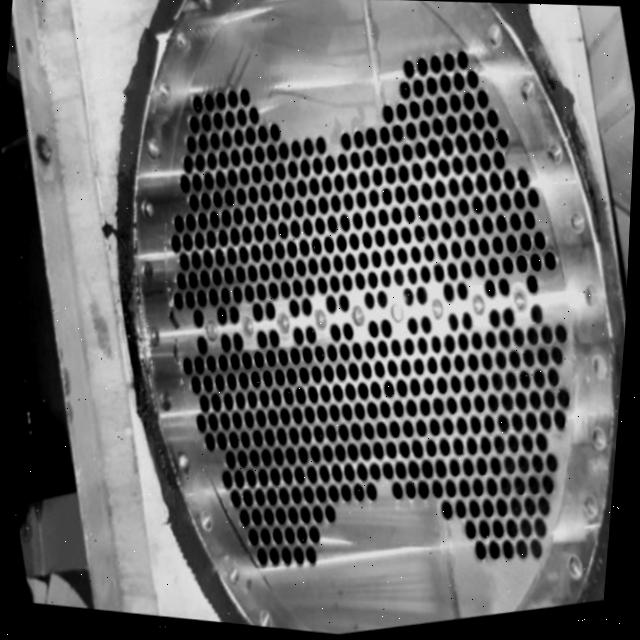Hole: (557, 388, 575, 414), (532, 368, 550, 394), (543, 387, 561, 413), (546, 366, 564, 392), (540, 411, 558, 436), (554, 409, 572, 434), (535, 346, 553, 371), (540, 326, 559, 349), (528, 305, 547, 328), (514, 168, 533, 191), (288, 142, 304, 169), (312, 137, 329, 162), (508, 433, 525, 458), (518, 454, 535, 479), (528, 475, 545, 500), (484, 330, 501, 355), (494, 351, 511, 376), (508, 349, 525, 374), (529, 389, 546, 414), (526, 411, 543, 436), (521, 433, 538, 458), (532, 453, 549, 478), (542, 473, 559, 498), (536, 432, 553, 457), (497, 497, 514, 522), (455, 417, 472, 442), (418, 480, 435, 505), (295, 468, 312, 493), (526, 327, 544, 350), (504, 235, 522, 258), (498, 192, 515, 216), (242, 130, 259, 154), (539, 495, 556, 519), (511, 497, 528, 521), (323, 366, 340, 390), (325, 506, 342, 530), (325, 426, 342, 450), (322, 447, 339, 471), (313, 507, 330, 531), (310, 528, 327, 552), (304, 328, 320, 353), (519, 369, 535, 394), (442, 502, 458, 527), (406, 482, 422, 507), (473, 175, 490, 198), (445, 263, 462, 286), (543, 251, 560, 274), (550, 346, 567, 369), (512, 191, 529, 214), (525, 189, 542, 212), (523, 211, 540, 234), (518, 234, 535, 257), (532, 231, 549, 254), (529, 253, 546, 276), (525, 276, 542, 299), (554, 323, 571, 346), (512, 329, 529, 352), (502, 308, 519, 331), (484, 195, 501, 218), (433, 97, 450, 120), (436, 77, 453, 100), (448, 96, 465, 119), (443, 117, 460, 140), (453, 136, 470, 159), (457, 115, 474, 138), (450, 74, 467, 97), (454, 52, 471, 75), (460, 93, 477, 116), (459, 178, 476, 201), (463, 155, 480, 178), (466, 134, 483, 157), (471, 113, 488, 136), (474, 91, 491, 114), (282, 550, 299, 573), (294, 549, 311, 572), (257, 550, 274, 573), (239, 512, 256, 535), (225, 454, 242, 477), (232, 337, 249, 360), (183, 218, 200, 241), (177, 180, 194, 203), (189, 100, 206, 123), (191, 313, 208, 336), (206, 292, 223, 315), (227, 311, 244, 334), (251, 307, 268, 330), (310, 241, 327, 264), (301, 141, 318, 164), (276, 145, 293, 168), (264, 147, 281, 170), (267, 206, 284, 229), (281, 264, 298, 287), (546, 454, 563, 477), (500, 393, 517, 416), (491, 373, 508, 396), (515, 476, 532, 499), (525, 497, 542, 520), (500, 478, 517, 501), (493, 436, 510, 459), (484, 416, 501, 439), (470, 332, 487, 355), (467, 354, 484, 377), (457, 334, 474, 357), (473, 395, 490, 418), (531, 539, 548, 562), (521, 518, 538, 541), (517, 540, 534, 563), (507, 518, 524, 541), (503, 540, 520, 563), (466, 437, 483, 460), (442, 418, 459, 441), (433, 398, 450, 421), (449, 460, 466, 483), (446, 480, 463, 503), (432, 481, 449, 504), (452, 439, 469, 462), (428, 418, 445, 441), (409, 379, 426, 402), (396, 380, 413, 403), (406, 401, 423, 424), (409, 462, 426, 485), (412, 441, 429, 464), (402, 421, 419, 444), (396, 463, 413, 486), (392, 484, 409, 507), (376, 422, 393, 445), (379, 402, 396, 425), (367, 322, 384, 345), (342, 325, 359, 348), (329, 326, 346, 349), (357, 464, 374, 487), (343, 466, 360, 489), (335, 366, 352, 389), (313, 348, 330, 371), (329, 406, 346, 429), (332, 466, 349, 489), (304, 409, 321, 432), (319, 466, 336, 489), (301, 428, 318, 451), (304, 489, 321, 512), (298, 529, 315, 552), (283, 469, 300, 492), (307, 469, 324, 492), (298, 449, 315, 472), (279, 410, 296, 433), (283, 390, 300, 413), (273, 371, 290, 394), (270, 392, 287, 415), (267, 411, 284, 434), (259, 393, 276, 416), (495, 214, 511, 238), (234, 473, 250, 497), (498, 414, 514, 438), (326, 346, 342, 370), (316, 487, 332, 511), (515, 255, 531, 278), (502, 171, 518, 194), (441, 55, 457, 78), (427, 57, 443, 80), (464, 71, 480, 94), (427, 141, 443, 164), (238, 375, 254, 398), (246, 110, 262, 133), (255, 129, 271, 152), (243, 210, 259, 233), (512, 413, 528, 436), (504, 457, 520, 480), (478, 374, 494, 397), (454, 355, 470, 378), (476, 542, 492, 565), (456, 501, 472, 524), (436, 461, 452, 484), (420, 399, 436, 422), (367, 485, 383, 508), (335, 446, 351, 469), (329, 487, 345, 510), (280, 490, 296, 513), (480, 217, 497, 238), (273, 452, 289, 474), (291, 489, 307, 511), (222, 396, 238, 418), (226, 377, 242, 399), (172, 296, 188, 318), (211, 398, 227, 420), (226, 377, 242, 399), (252, 433, 268, 455), (273, 531, 289, 553), (253, 511, 269, 533), (286, 371, 302, 393), (238, 454, 254, 476), (246, 473, 262, 495), (250, 454, 266, 476), (273, 451, 289, 473), (262, 452, 278, 474), (258, 473, 274, 495), (197, 341, 213, 363), (243, 493, 259, 515), (248, 532, 264, 554), (237, 93, 253, 115), (256, 334, 272, 356), (217, 156, 233, 178), (270, 187, 286, 209), (276, 226, 292, 248), (264, 227, 280, 249), (516, 392, 532, 414), (460, 396, 476, 418), (440, 357, 456, 379), (446, 397, 462, 419), (490, 542, 506, 564), (470, 501, 486, 523), (466, 522, 482, 544), (460, 481, 476, 503), (439, 439, 455, 461), (380, 321, 396, 343), (416, 420, 432, 442), (426, 440, 442, 462), (393, 403, 409, 425), (386, 443, 402, 465), (374, 362, 390, 384), (364, 343, 380, 365), (367, 404, 383, 426), (370, 466, 386, 488), (358, 384, 374, 406), (301, 509, 317, 531), (276, 511, 292, 533), (400, 442, 415, 465), (509, 214, 525, 235), (413, 143, 429, 164), (423, 164, 439, 185), (416, 123, 432, 144), (292, 203, 306, 227), (488, 395, 504, 416), (314, 428, 330, 449), (182, 362, 197, 384), (196, 419, 211, 441), (208, 417, 223, 439), (268, 491, 283, 513), (191, 381, 206, 403), (255, 491, 270, 513), (229, 154, 244, 176), (273, 165, 288, 187), (259, 189, 274, 211), (261, 247, 276, 269), (423, 462, 438, 484), (374, 444, 389, 466), (339, 347, 354, 369), (348, 445, 363, 467), (342, 485, 357, 507), (310, 449, 325, 471), (289, 509, 304, 531), (286, 529, 301, 551), (289, 431, 304, 453), (265, 432, 280, 454), (250, 170, 264, 193), (489, 311, 505, 331), (481, 354, 497, 374), (523, 350, 539, 370), (461, 314, 477, 334), (491, 238, 507, 258), (498, 280, 514, 300), (501, 258, 517, 278), (483, 282, 499, 302), (492, 154, 508, 174), (496, 131, 512, 151), (485, 111, 501, 131), (481, 134, 497, 154), (478, 156, 494, 176), (467, 220, 483, 240), (463, 242, 479, 262), (432, 267, 448, 287), (399, 147, 415, 167), (409, 166, 425, 186), (446, 181, 462, 201), (407, 104, 423, 124), (440, 140, 456, 160), (430, 120, 446, 140), (397, 85, 413, 105), (410, 83, 426, 103), (423, 81, 439, 101), (435, 245, 451, 265), (429, 205, 445, 225), (439, 224, 455, 244), (443, 202, 459, 222), (449, 244, 465, 264), (453, 221, 469, 241), (457, 201, 473, 221), (404, 126, 420, 146), (335, 238, 351, 258), (323, 240, 339, 260), (322, 160, 338, 180), (232, 494, 248, 514), (199, 400, 215, 420), (205, 361, 221, 381), (219, 418, 235, 438), (240, 435, 256, 455), (243, 415, 259, 435), (220, 339, 236, 359), (184, 142, 200, 162), (178, 259, 194, 279), (175, 278, 191, 298), (184, 297, 200, 317), (181, 239, 197, 259), (193, 238, 209, 258), (199, 276, 215, 296), (216, 313, 232, 333), (219, 292, 235, 312), (213, 97, 229, 117), (228, 234, 244, 254), (255, 289, 271, 309), (251, 229, 267, 249), (249, 249, 265, 269), (267, 287, 283, 307), (292, 283, 308, 303), (286, 165, 302, 185), (295, 185, 311, 205), (270, 267, 286, 287), (443, 337, 459, 357), (464, 378, 480, 398), (426, 359, 442, 379), (437, 379, 453, 399), (423, 380, 439, 400), (536, 518, 552, 538), (479, 522, 495, 542), (487, 480, 503, 500), (383, 465, 399, 485), (332, 387, 348, 407), (311, 369, 327, 389), (301, 351, 317, 371), (308, 391, 324, 411), (276, 352, 292, 372), (253, 355, 269, 375), (247, 395, 263, 415), (500, 331, 515, 352), (420, 102, 435, 123), (416, 207, 431, 228), (229, 435, 244, 456), (235, 396, 250, 417), (247, 270, 262, 291), (407, 319, 422, 340), (494, 521, 509, 542), (484, 500, 499, 521), (317, 408, 332, 429), (215, 176, 229, 198), (338, 299, 354, 318), (298, 164, 314, 183), (288, 305, 304, 324), (473, 261, 488, 281), (506, 373, 521, 393), (488, 260, 503, 280), (488, 175, 503, 195), (471, 198, 486, 218), (477, 239, 492, 259), (443, 286, 458, 306), (420, 186, 435, 206), (450, 159, 465, 179), (401, 63, 416, 83), (414, 61, 429, 81), (434, 184, 449, 204), (437, 161, 452, 181), (394, 106, 409, 126), (377, 212, 392, 232), (370, 172, 385, 192), (374, 151, 389, 171), (396, 249, 411, 269), (406, 270, 421, 290), (386, 231, 401, 251), (380, 191, 395, 211), (390, 210, 405, 230), (384, 169, 399, 189), (387, 148, 402, 168), (396, 168, 411, 188), (403, 209, 418, 229), (419, 269, 434, 289), (426, 226, 441, 246), (381, 108, 396, 128), (361, 153, 376, 173), (376, 293, 391, 313), (370, 254, 385, 274), (380, 273, 395, 293), (348, 156, 363, 176), (354, 194, 369, 214), (364, 213, 379, 233), (382, 252, 397, 272), (367, 193, 382, 213), (339, 137, 354, 157), (333, 179, 348, 199), (320, 180, 335, 200), (308, 182, 323, 202), (308, 551, 323, 571), (223, 476, 238, 496), (194, 363, 209, 383), (203, 381, 218, 401), (215, 379, 230, 399), (232, 417, 247, 437), (218, 359, 233, 379), (261, 532, 276, 552), (270, 552, 285, 572), (182, 162, 197, 182), (190, 179, 205, 199), (173, 221, 188, 241), (170, 242, 185, 262), (187, 277, 202, 297), (202, 256, 217, 276), (211, 274, 226, 294), (196, 218, 211, 238), (222, 272, 237, 292), (226, 254, 241, 274), (234, 114, 249, 134), (220, 215, 235, 235), (237, 251, 252, 271), (268, 335, 283, 355), (240, 230, 255, 250), (231, 134, 246, 154), (252, 151, 267, 171), (268, 128, 283, 148), (259, 268, 274, 288), (280, 285, 295, 305), (304, 282, 319, 302), (314, 222, 329, 242), (289, 225, 304, 245), (283, 186, 298, 206), (280, 206, 295, 226), (255, 210, 270, 230), (292, 331, 307, 351), (420, 317, 435, 337), (491, 458, 506, 478), (480, 438, 495, 458), (477, 459, 492, 479), (362, 365, 377, 385), (349, 367, 364, 387), (346, 386, 361, 406), (351, 427, 366, 447), (360, 446, 375, 466), (355, 486, 370, 506), (343, 406, 358, 426), (290, 351, 305, 371), (293, 411, 308, 431), (286, 451, 301, 471), (266, 355, 281, 375), (414, 228, 428, 249), (417, 289, 431, 310), (342, 197, 357, 216), (345, 177, 360, 196), (196, 296, 211, 315), (216, 235, 231, 254), (226, 97, 241, 116), (204, 160, 219, 179), (223, 195, 238, 214), (460, 263, 474, 283), (457, 285, 471, 305), (392, 270, 406, 290), (364, 132, 378, 152), (400, 230, 414, 250), (410, 249, 424, 269), (394, 188, 408, 208), (378, 130, 392, 150), (423, 247, 437, 267), (407, 188, 421, 208), (391, 128, 405, 148), (361, 234, 375, 254), (403, 291, 417, 311), (357, 174, 371, 194), (374, 234, 388, 254), (351, 134, 365, 154), (345, 257, 359, 277), (339, 218, 353, 238), (336, 158, 350, 178), (311, 162, 325, 182), (242, 357, 256, 377), (188, 122, 202, 142), (190, 257, 204, 277), (205, 236, 219, 256), (238, 173, 252, 193), (301, 302, 315, 322), (448, 316, 462, 336), (471, 418, 485, 438), (355, 405, 369, 425), (277, 432, 291, 452), (263, 373, 277, 393), (257, 414, 271, 434), (295, 264, 310, 282), (320, 261, 334, 280), (368, 276, 382, 295), (332, 259, 346, 278), (326, 300, 340, 319), (317, 282, 331, 301), (326, 220, 340, 239), (206, 439, 220, 458), (265, 513, 279, 532), (214, 255, 228, 274), (193, 160, 207, 179), (244, 290, 258, 309), (265, 307, 279, 326), (235, 194, 249, 213), (220, 138, 234, 157), (307, 263, 321, 282), (301, 224, 315, 243), (263, 170, 277, 189), (451, 378, 465, 397), (431, 338, 445, 357), (417, 340, 431, 359), (414, 361, 428, 380), (474, 481, 488, 500), (401, 362, 415, 381), (384, 384, 398, 403), (352, 346, 366, 365), (365, 426, 379, 445), (321, 389, 335, 408), (251, 376, 265, 395), (330, 279, 343, 299), (248, 191, 261, 211), (188, 201, 202, 219), (208, 217, 222, 235), (211, 197, 225, 215), (241, 154, 255, 172), (304, 205, 318, 223), (390, 424, 404, 442), (339, 428, 353, 446), (358, 257, 371, 276), (343, 278, 356, 297), (233, 292, 246, 311), (203, 178, 216, 197), (200, 121, 213, 140), (202, 101, 215, 120), (235, 272, 248, 291), (299, 244, 312, 263), (274, 248, 287, 267), (404, 342, 417, 361), (465, 461, 478, 480), (392, 342, 405, 361), (378, 344, 391, 363), (388, 363, 401, 382), (372, 385, 385, 404), (300, 371, 313, 390), (296, 391, 309, 410), (364, 296, 378, 313), (200, 199, 214, 216), (197, 141, 211, 158), (208, 140, 222, 157), (226, 176, 240, 193), (286, 247, 300, 264), (352, 217, 365, 235), (330, 200, 343, 218), (218, 439, 231, 457), (212, 119, 225, 137), (223, 118, 236, 136), (233, 214, 246, 232), (349, 238, 362, 255), (355, 278, 368, 295), (318, 202, 331, 219)
